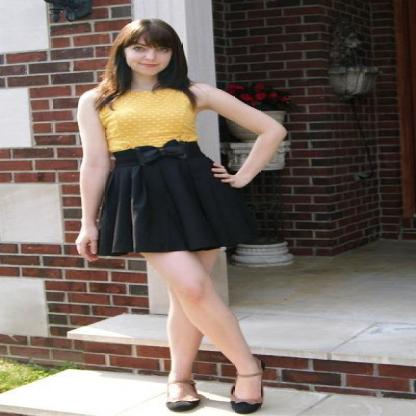shirt: (95, 87, 196, 151)
shoe: (230, 401, 261, 413)
skirt: (92, 148, 276, 258)
